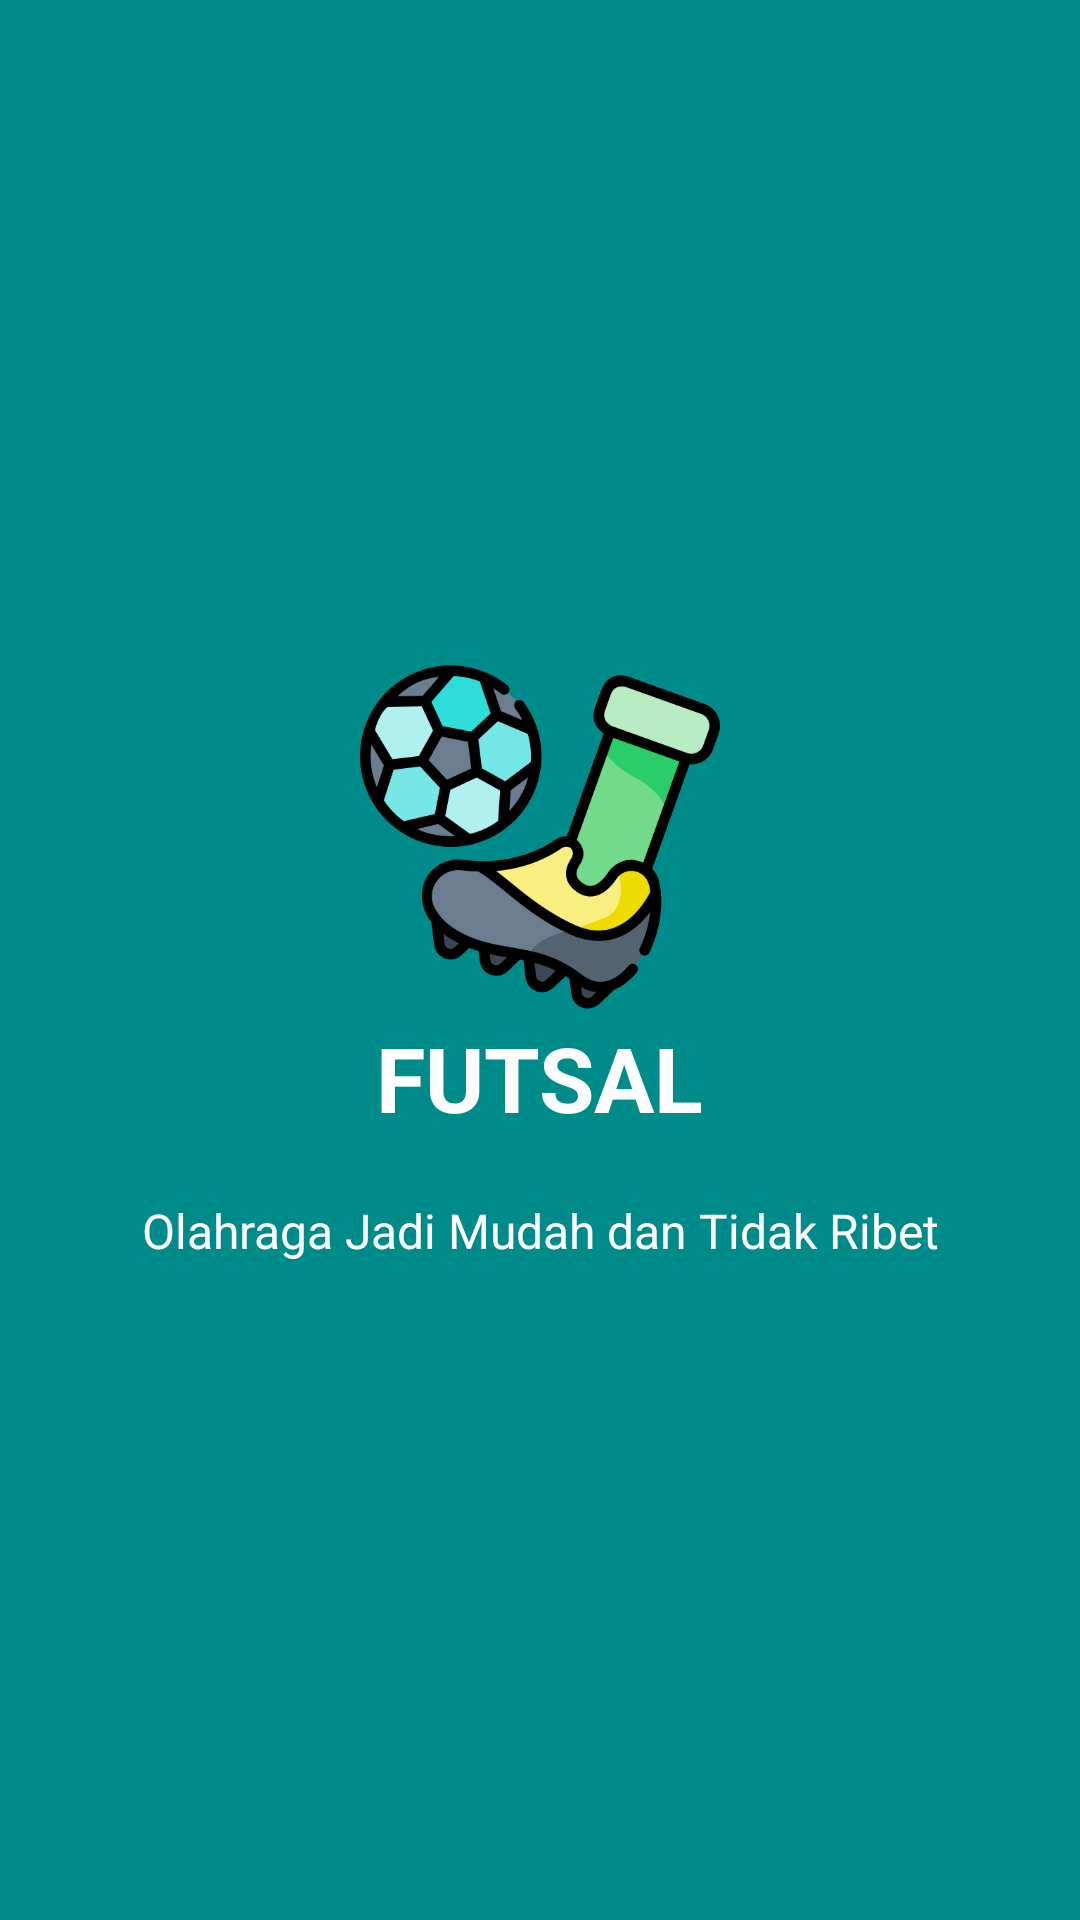

Screen size 1080*1920. Icon name, then its center in pixels as (x=x, y=y):
playing: (x=540, y=837)
